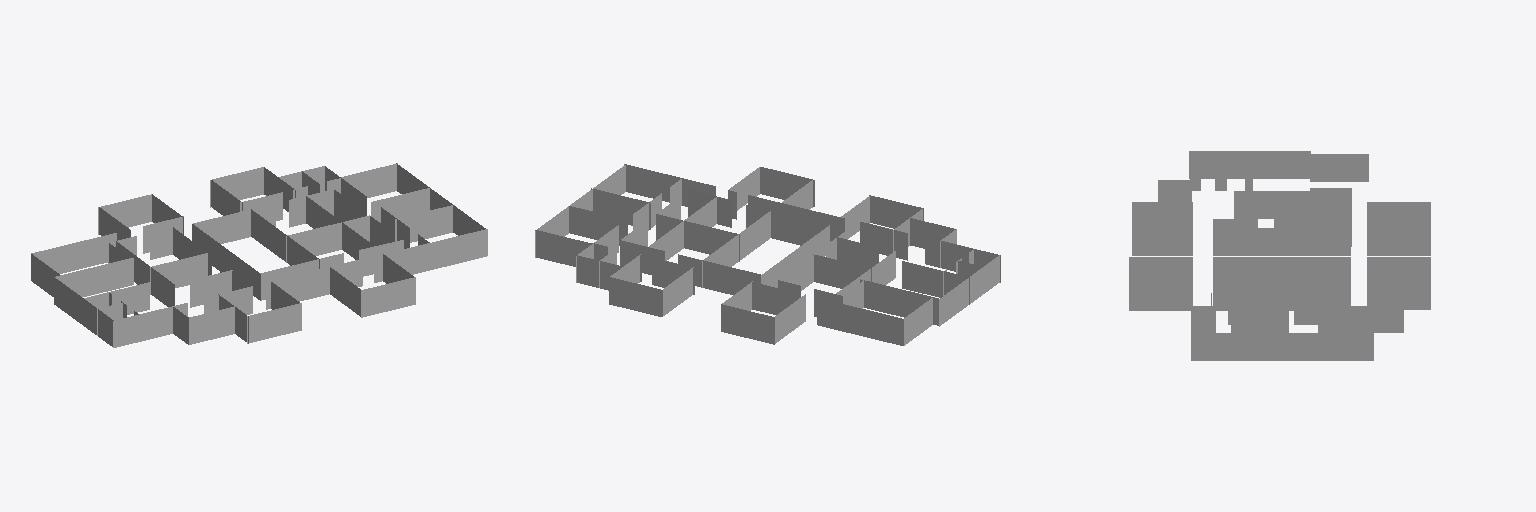
Rendered from bright_2nd_floor_walls.obj.
3 renders of one model, left to right at view 1: azimuth 30°, elevation 25°; view 2: azimuth 150°, elevation 25°; view 3: azimuth 270°, elevation 25°, orthographic.
Visible parts, largest first — view 1: polySurface63; view 2: polySurface63; view 3: polySurface63.
Boxes of the visible parts, x1,y1,x2,y2 form: polySurface63: [31, 163, 487, 347]; polySurface63: [535, 164, 1000, 345]; polySurface63: [1129, 151, 1430, 360].
Bounding box in the file's own units: 348 × 24.51 × 243.